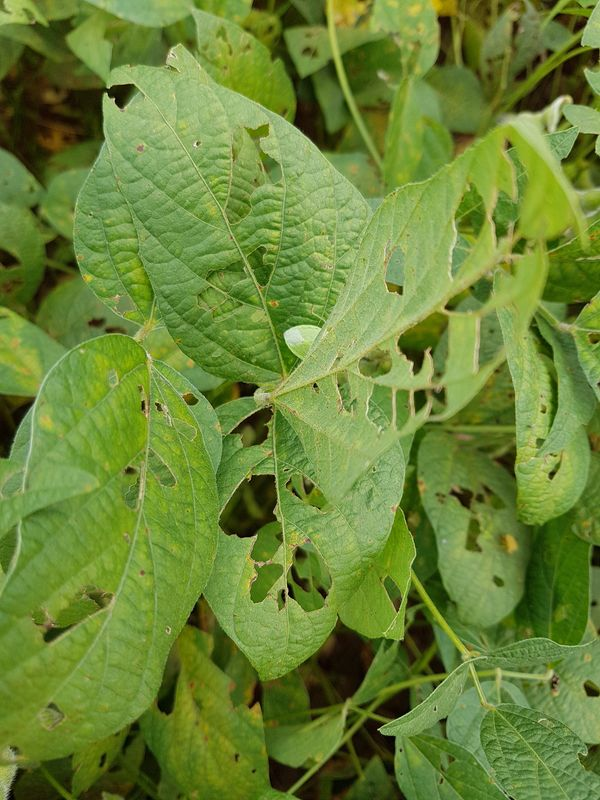Nezara_viridula_adulto: (272, 308, 342, 374)
